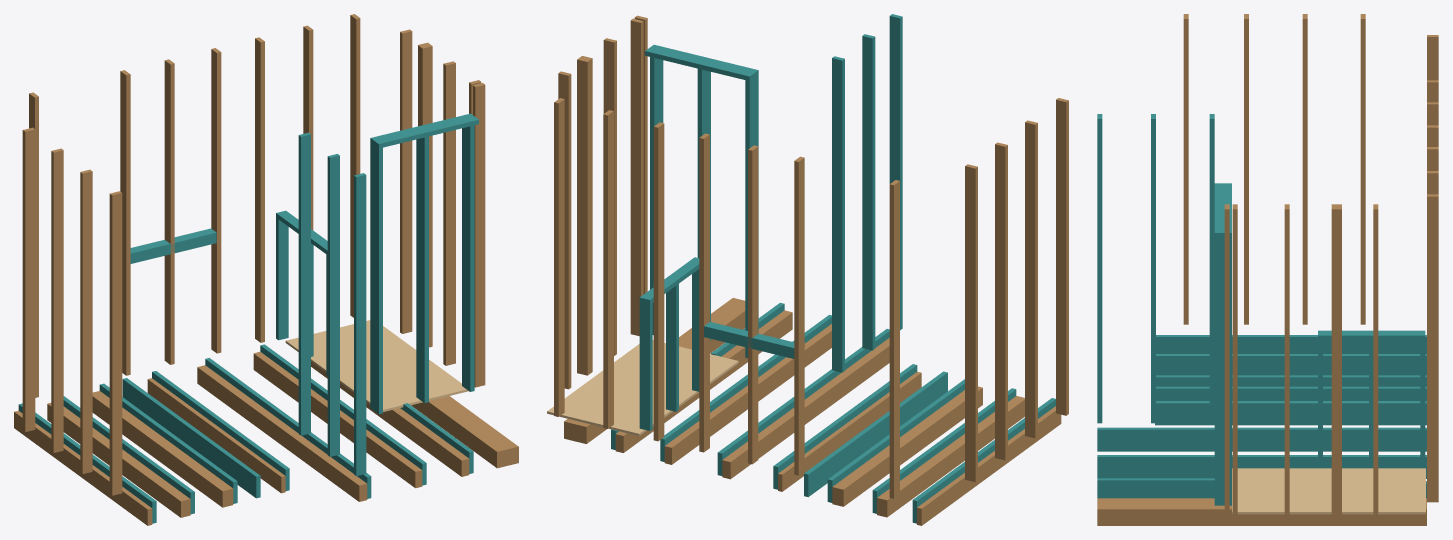
The model's file is framing-study.glb.
The picture shows the model from 3 angles, left to right: view 1: azimuth 30°, elevation 25°; view 2: azimuth 150°, elevation 25°; view 3: azimuth 270°, elevation 25°; orthographic projection. The views are drawn at different scales.
Parts seen in each view (by area): view 1: Part 161, Part 208, Part 205, Part 056, Part 206, Part 207, Part 184, Part 185, Part 183, Part 043, Part 046, Part 041 (+29 smaller); view 2: Part 161, Part 184, Part 042, Part 045, Part 205, Part 206, Part 207, Part 208, Part 185, Part 056, Part 105, Part 054 (+33 smaller); view 3: Part 161, Part 140, Part 059, Part 139, Part 141, Part 137, Part 128, Part 107, Part 136, Part 091, Part 138, Part 142 (+19 smaller).
Boxes of the visible parts, box(x1,y1,x2,y2) form: Part 161: box(285, 320, 468, 411); Part 208: box(22, 127, 35, 432); Part 205: box(109, 191, 122, 495); Part 056: box(197, 365, 367, 501); Part 206: box(80, 169, 92, 473); Part 207: box(51, 148, 63, 452); Part 184: box(327, 154, 339, 456); Part 185: box(298, 132, 310, 435); Part 183: box(354, 173, 366, 475); Part 043: box(443, 61, 455, 365); Part 046: box(400, 29, 412, 333); Part 041: box(473, 83, 485, 387); Part 161: box(547, 340, 738, 435); Part 184: box(862, 34, 875, 350); Part 042: box(630, 18, 643, 336); Part 045: box(577, 57, 589, 375); Part 205: box(1056, 98, 1068, 415); Part 206: box(1025, 120, 1037, 438); Part 207: box(995, 142, 1007, 460); Part 208: box(965, 164, 977, 482); Part 185: box(832, 56, 844, 372); Part 056: box(722, 338, 889, 479); Part 105: box(653, 122, 664, 441); Part 054: box(832, 386, 982, 506); Part 161: box(1232, 468, 1425, 514); Part 140: box(1097, 427, 1426, 451); Part 059: box(1097, 498, 1426, 525); Part 139: box(1155, 401, 1426, 425); Part 141: box(1097, 455, 1426, 478); Part 137: box(1156, 354, 1426, 375); Part 128: box(1214, 228, 1231, 505); Part 107: box(1427, 194, 1438, 502); Part 136: box(1156, 335, 1426, 353); Part 091: box(1156, 386, 1426, 400); Part 138: box(1156, 375, 1426, 386); Part 142: box(1097, 478, 1214, 498).
Size of the model in its own units: 3.5 by 2.77 by 2.58.
